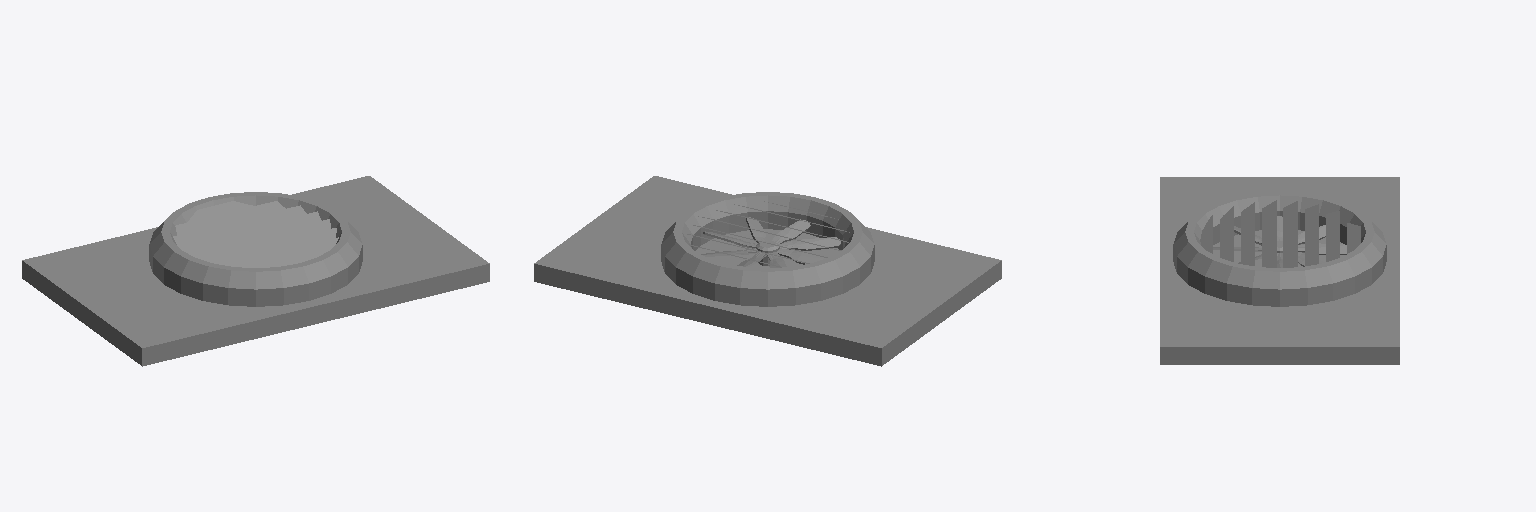
The model's file is Exhaust.obj.
3 views of the same model, side by side, from view 1: azimuth 30°, elevation 25°; view 2: azimuth 150°, elevation 25°; view 3: azimuth 270°, elevation 25° (orthographic).
Visible parts, largest first — view 1: SM_ExhaustFan_E; view 2: SM_ExhaustFan_E; view 3: SM_ExhaustFan_E.
Part boxes in pixels (bbox=[...]): SM_ExhaustFan_E: bbox=[22, 176, 489, 366]; SM_ExhaustFan_E: bbox=[534, 176, 1001, 366]; SM_ExhaustFan_E: bbox=[1160, 177, 1399, 364].
Bounding box in the file's own units: 157 × 20.91 × 94.49.